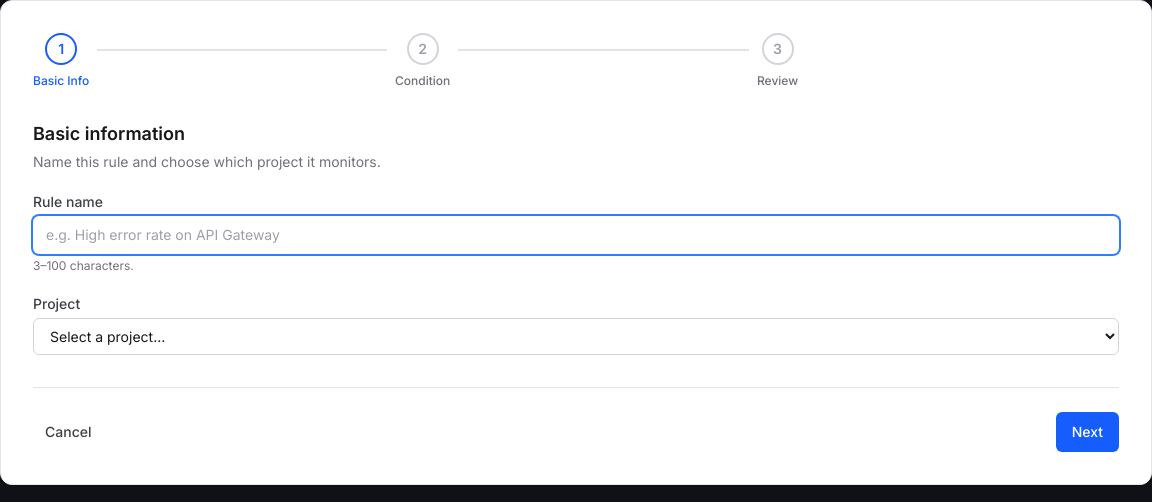
Test: AlertRuleBuilder — Step 1: Basic Info › blocks advancement when name is too short (< 3 chars)
Type "AB" into the field labelled "Rule name" at (576, 235), box [33, 216, 1119, 254]
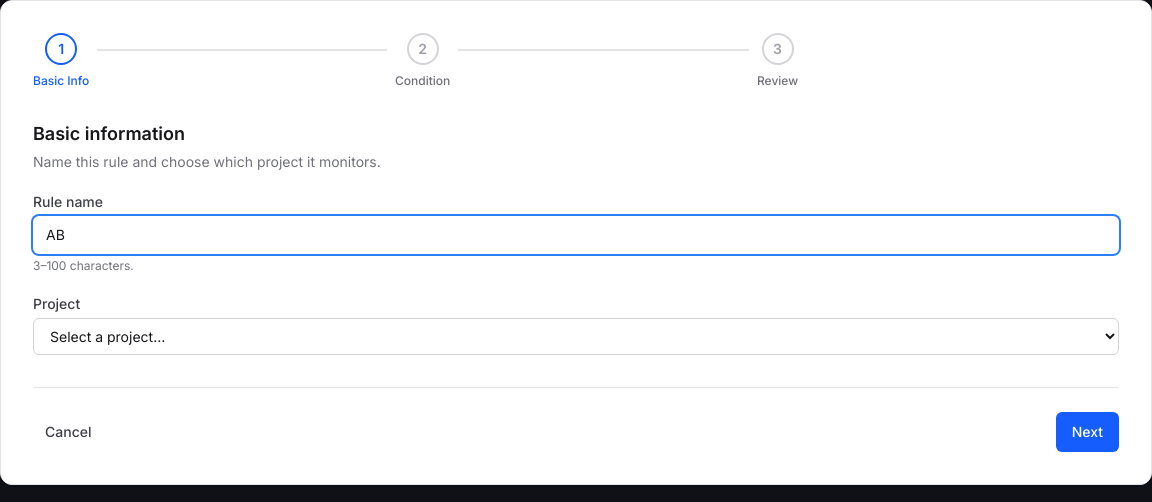
Select "API Gateway" in the dropdown labelled "Project" at (576, 336), box [33, 318, 1119, 355]
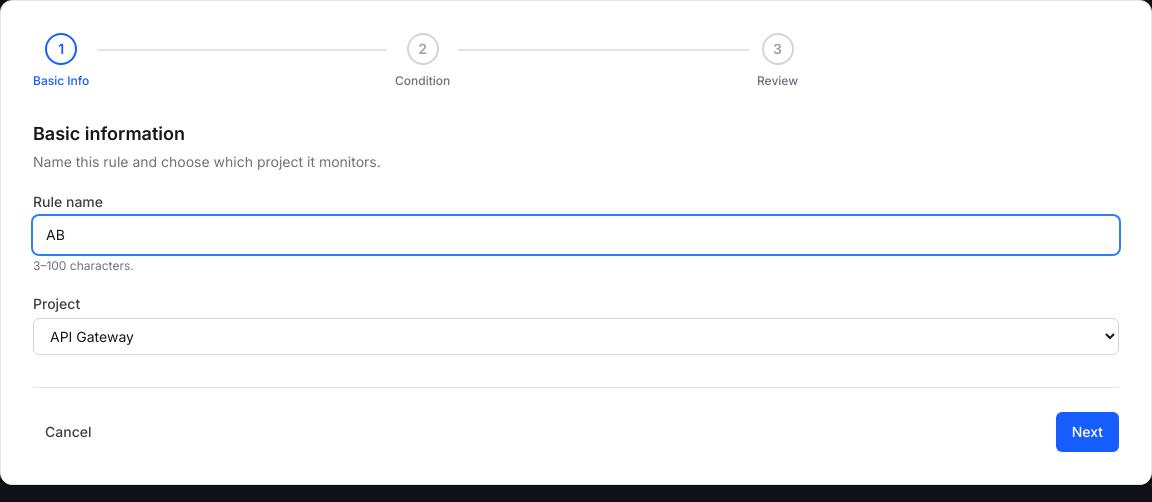
Click the button "Next" at (1087, 432), box [1056, 412, 1119, 452]
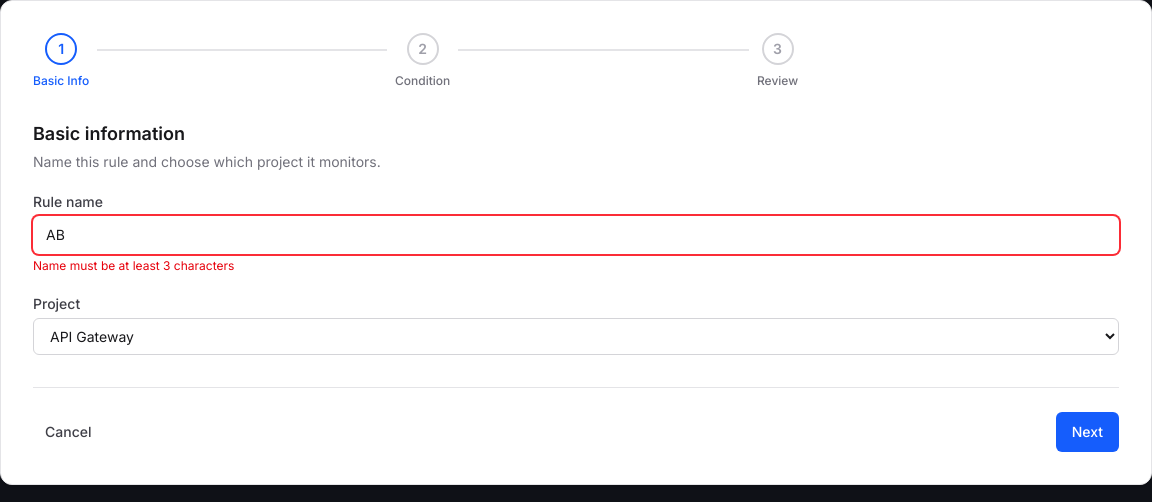
Expected: the message shows "at least 3", [33, 258, 234, 273]
